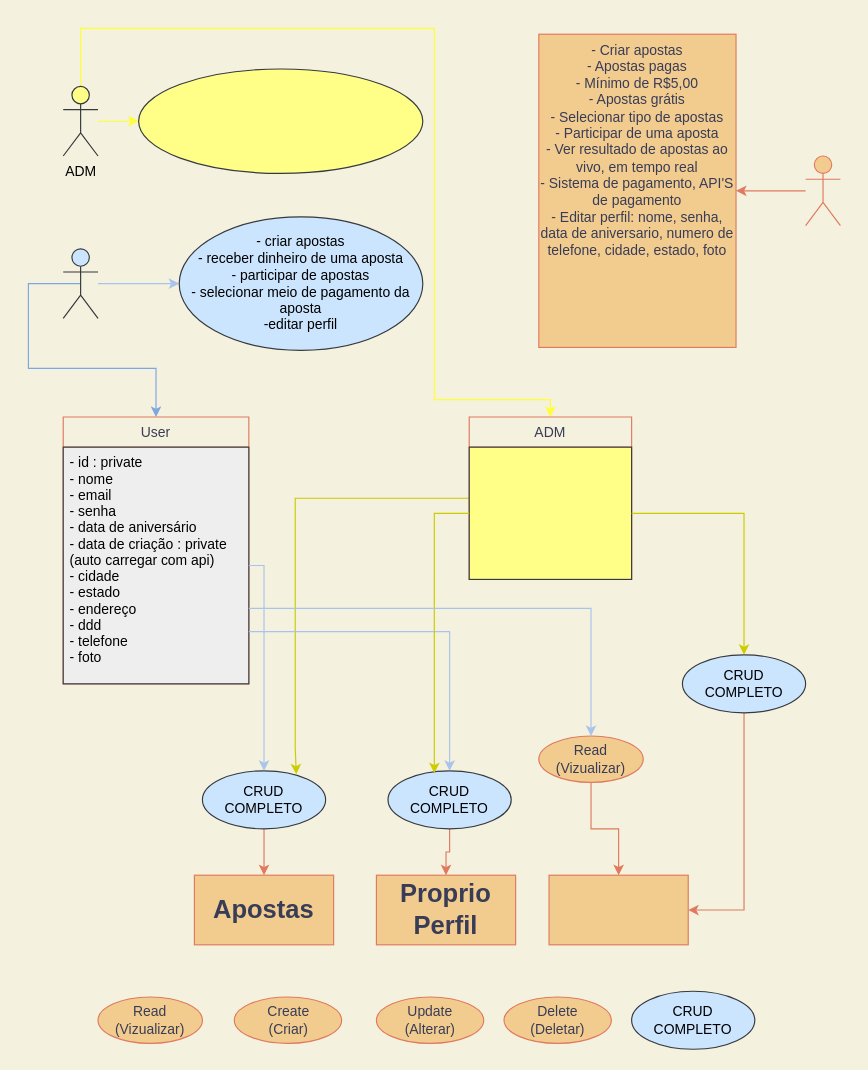
This 868x1070 diagram has some shape labels left out. The centre of each missing label's shape, as x and y in pixels:
- CRUD EM APOSTAS - ALTERAR VALOR DE APOSTAS - ALTERAR USUARIOS: [280,120]
- id : private - email - senha: [550,512]
Perfil Usuário: [618,909]
Sistema: [822,190]
Usuário: [80,283]
